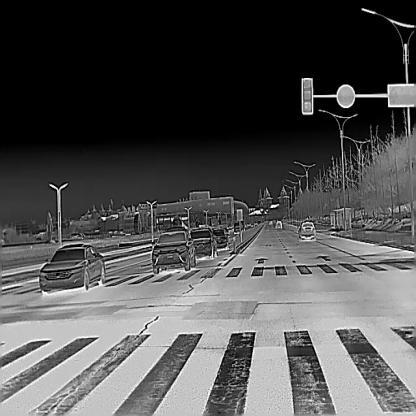car: (39, 243, 106, 294), (151, 226, 195, 273), (187, 227, 218, 257), (208, 228, 228, 250), (297, 220, 315, 240), (233, 221, 240, 232), (275, 220, 281, 229), (268, 220, 272, 225), (251, 221, 254, 227)
